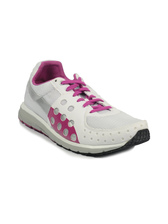shoes: (18, 57, 154, 154)
